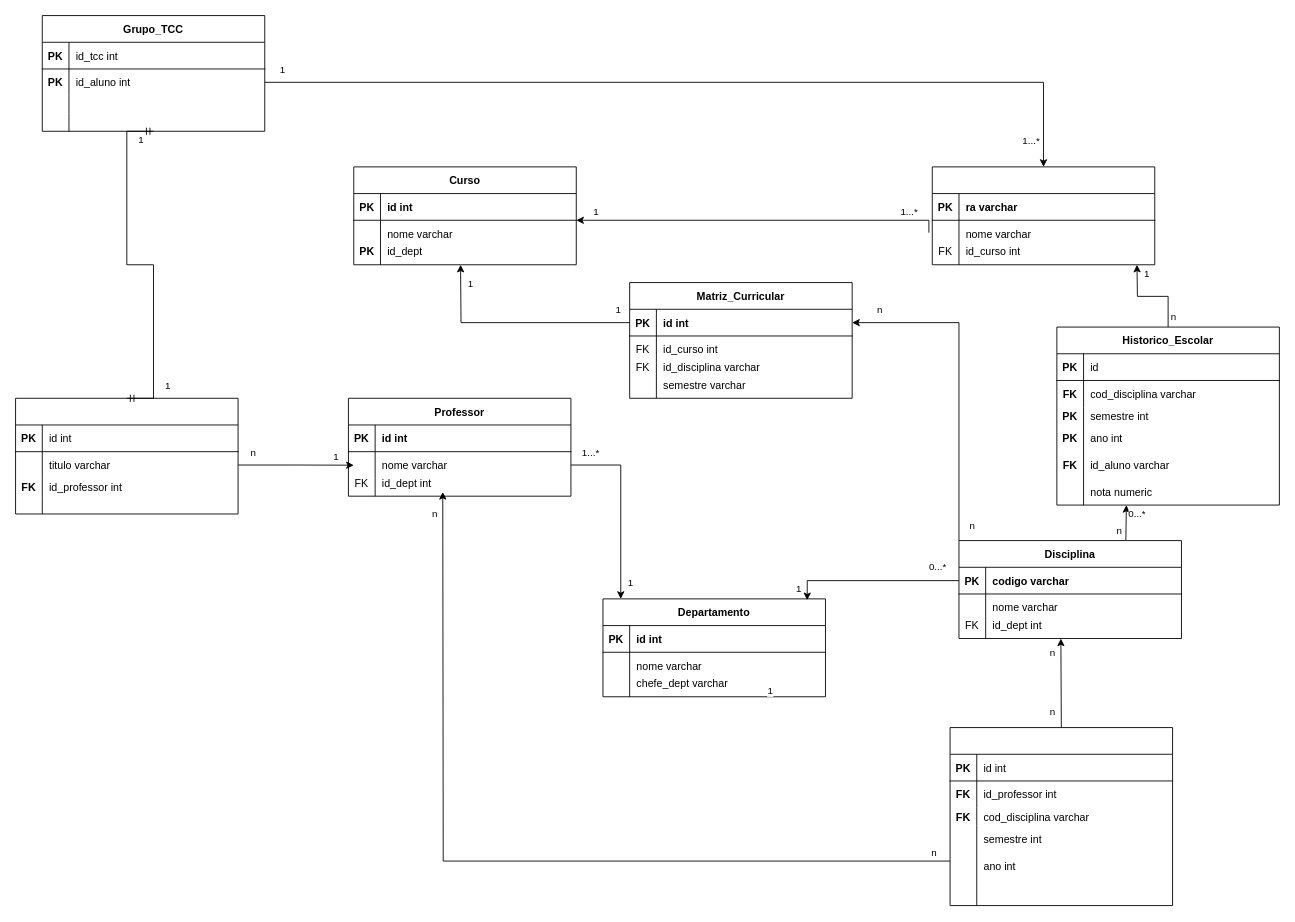
The diagram is 1295 pixels wide and 922 high, and some of its shapes have lost their labels. The box of each missing label's shape, as (x1, y1, x2, y2) in pixels:
Aluno: (931, 166, 1155, 265)
Historico_Disciplinas: (949, 727, 1173, 906)
TCC: (15, 397, 238, 514)
